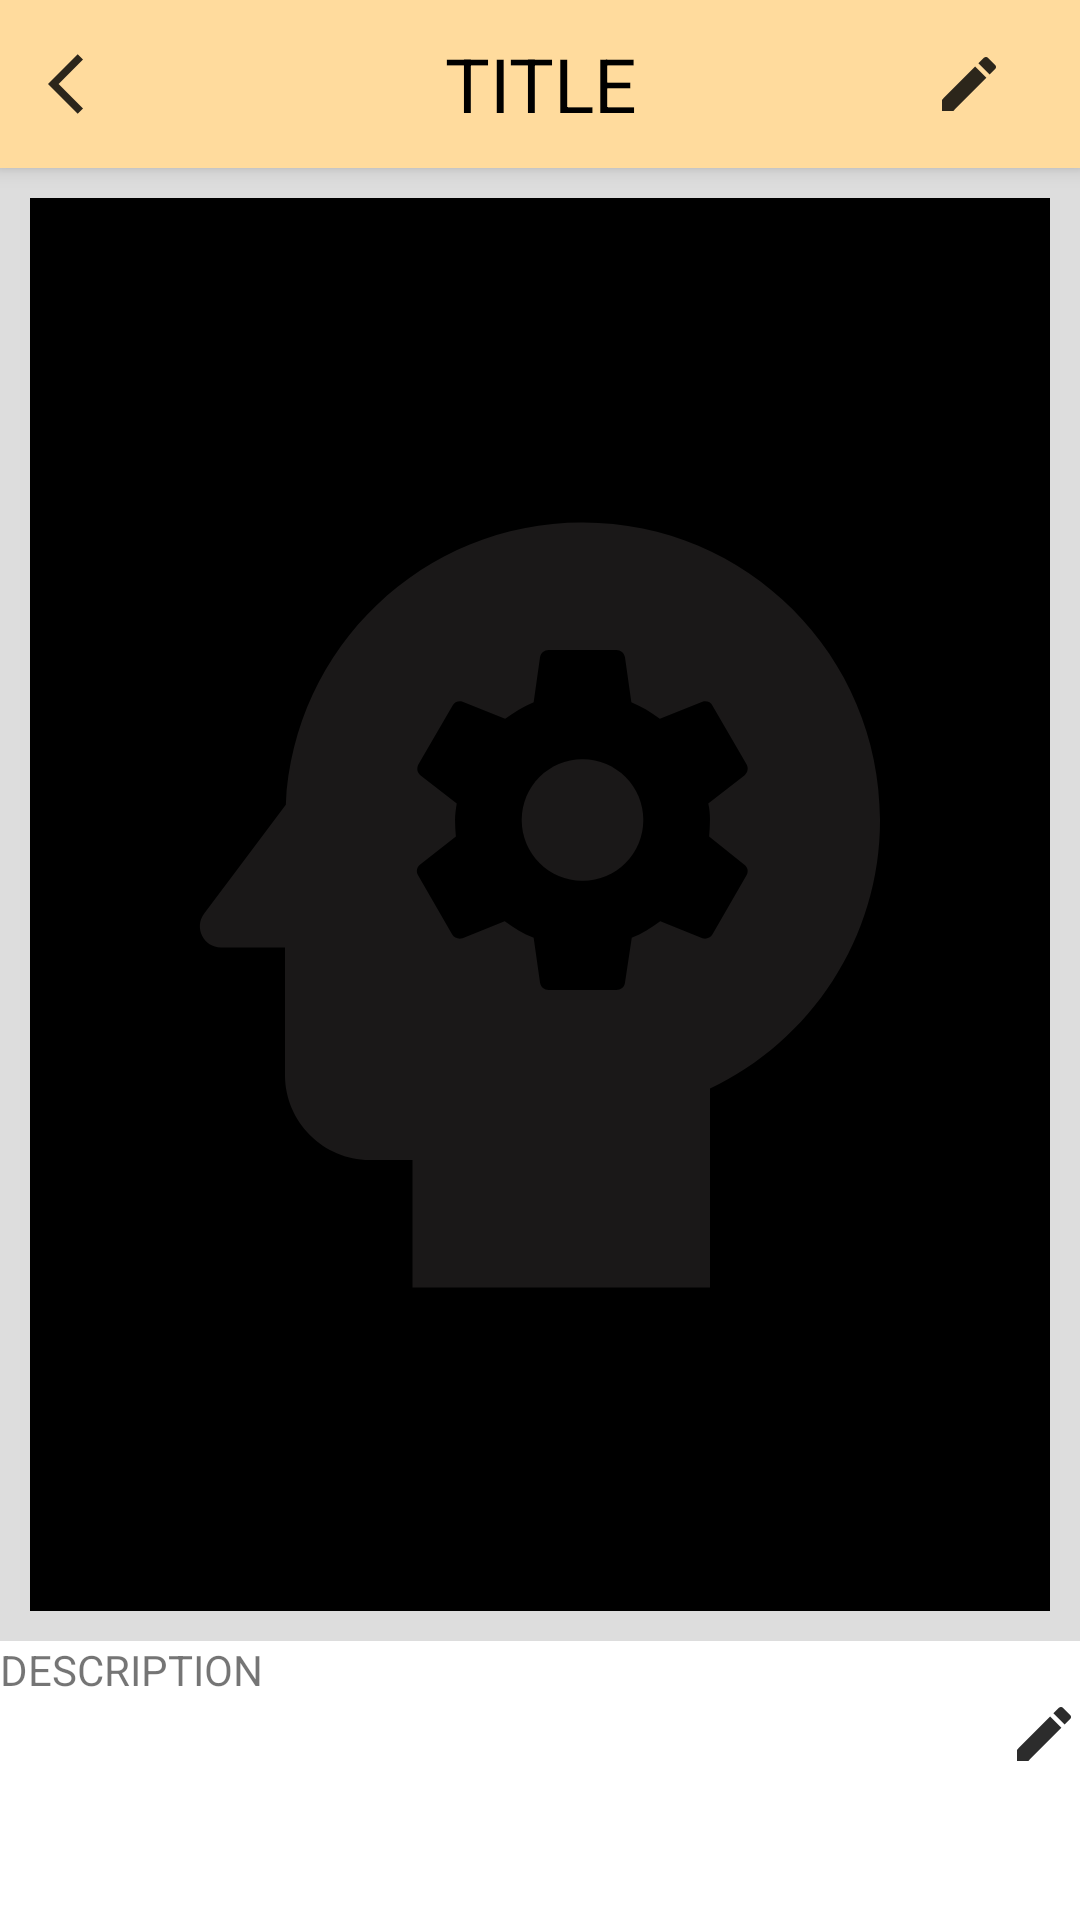

Named icons in this screenshot (1080x1920) and their centers, (x,y):
edit: (969,84), (1044,1734)
return: (65,84)
